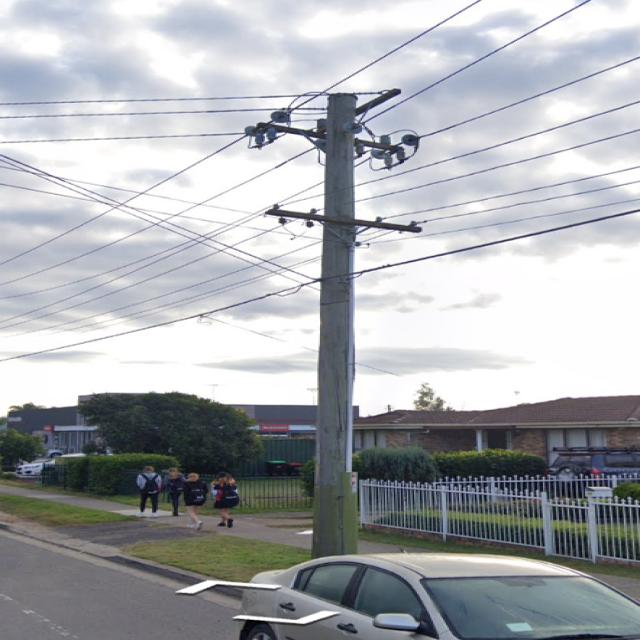HV-transmission: (243, 90, 420, 170)
crossarm: (258, 122, 402, 151), (262, 206, 421, 232), (356, 88, 402, 116)
timber-pole: (310, 92, 355, 555)
